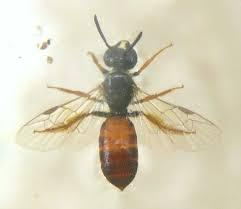Allodapula: (15, 12, 224, 190)
